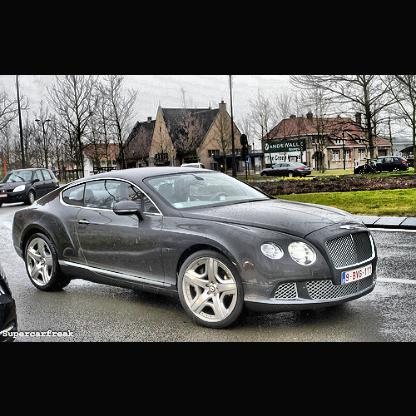Bentley Continental GT Coupe 2012: (12, 165, 378, 328)
